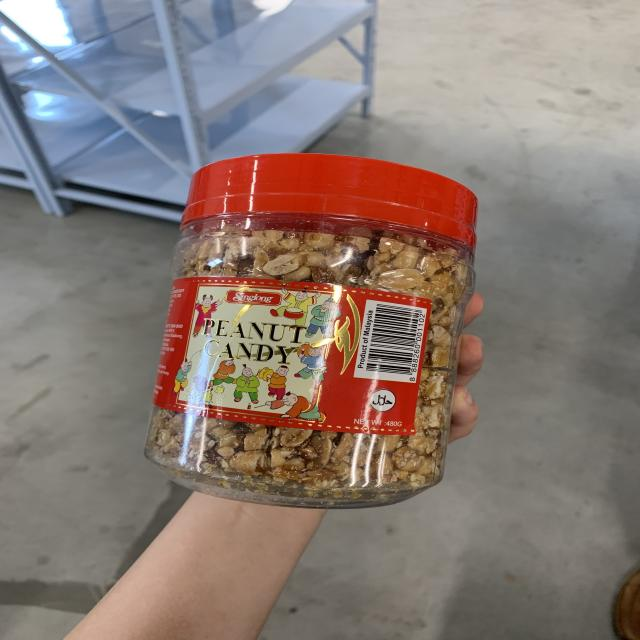object_name: (163, 165, 448, 508)
